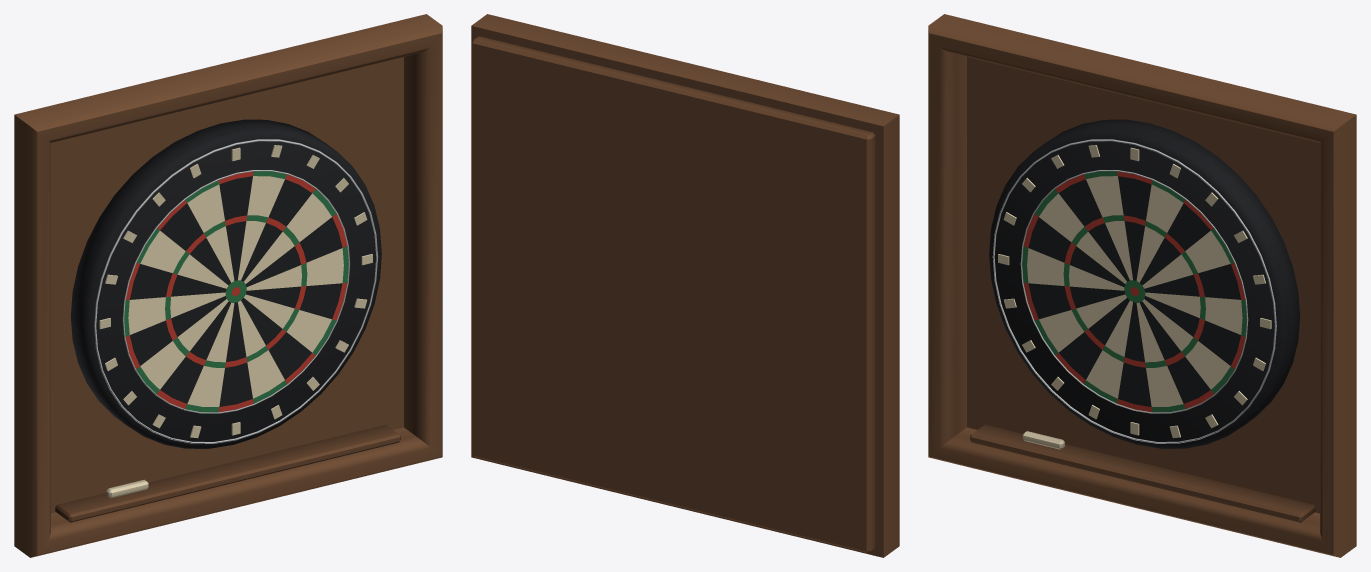
File: dartboard.glb
3 views of the same model, side by side, from view 1: azimuth 30°, elevation 25°; view 2: azimuth 150°, elevation 25°; view 3: azimuth 330°, elevation 25° (orthographic).
Parts seen in each view (by area): view 1: body; view 2: body; view 3: body.
Part boxes in pixels (left/top/right/bottom): body: left=14, top=14, right=442, bottom=557; body: left=471, top=14, right=899, bottom=557; body: left=928, top=14, right=1356, bottom=557.
Bounding box in the file's own units: 0.62 × 0.62 × 0.07.
